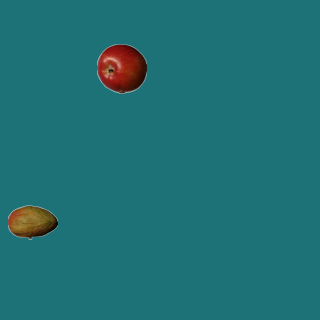Apple Braeburn: (96, 43, 146, 93)
Papaya: (7, 197, 57, 247)
